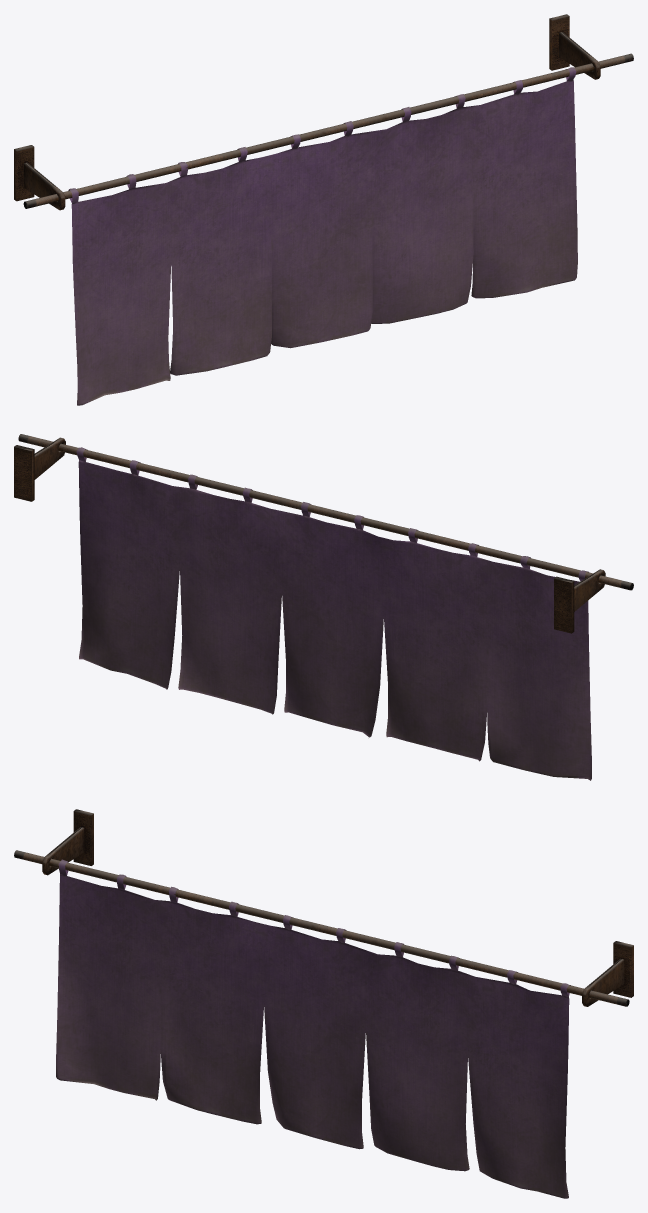
Rendered from ShopCurtain_B.fbx.
3 views of the same model, one above another, from view 1: azimuth 30°, elevation 25°; view 2: azimuth 150°, elevation 25°; view 3: azimuth 330°, elevation 25° (orthographic).
Visible parts, largest first — view 1: ShopCurtain_B; view 2: ShopCurtain_B; view 3: ShopCurtain_B.
Boxes of the visible parts, bbox=[...] form: ShopCurtain_B: bbox=[14, 14, 633, 405]; ShopCurtain_B: bbox=[14, 434, 633, 780]; ShopCurtain_B: bbox=[14, 809, 633, 1198].
Bounding box in the file's own units: 234 × 86.06 × 28.46.
Materials: 1 (1 with a texture image).
